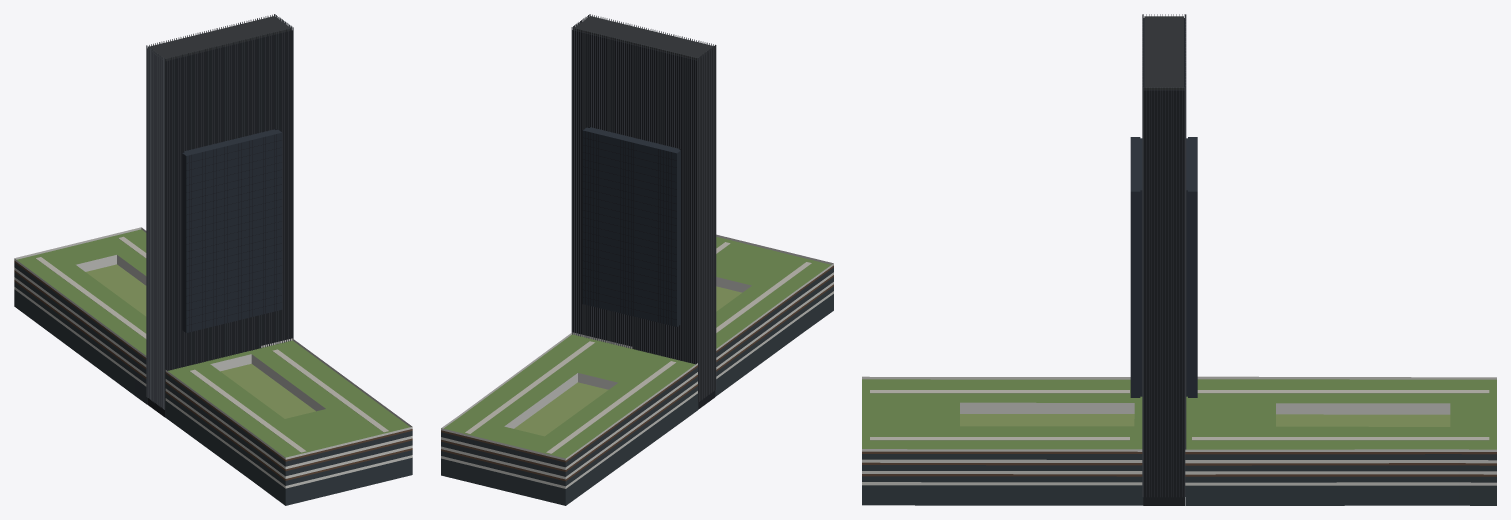
The picture shows the model from 3 angles, left to right: view 1: azimuth 30°, elevation 25°; view 2: azimuth 150°, elevation 25°; view 3: azimuth 270°, elevation 25°; orthographic projection. The views are drawn at different scales.
Parts seen in each view (by area): view 1: podium, tower_glass, fins, blocks, podium_glass; view 2: podium, tower_glass, fins, blocks, podium_glass; view 3: podium, podium_glass, tower_glass, fins, blocks.
Boxes of the visible parts, x1,y1,x2,y2 form: podium: [14, 227, 412, 488]; tower_glass: [147, 30, 292, 417]; fins: [146, 14, 293, 409]; blocks: [182, 129, 282, 332]; podium_glass: [14, 262, 412, 505]; podium: [441, 234, 833, 488]; tower_glass: [572, 29, 715, 409]; fins: [571, 14, 716, 402]; blocks: [582, 127, 680, 326]; podium_glass: [441, 267, 833, 505]; podium: [862, 376, 1496, 485]; podium_glass: [862, 454, 1496, 505]; tower_glass: [1143, 18, 1184, 505]; fins: [1142, 14, 1186, 496]; blocks: [1130, 137, 1197, 397].
Bounding box in the file's own units: 70.3 × 187 × 256.
